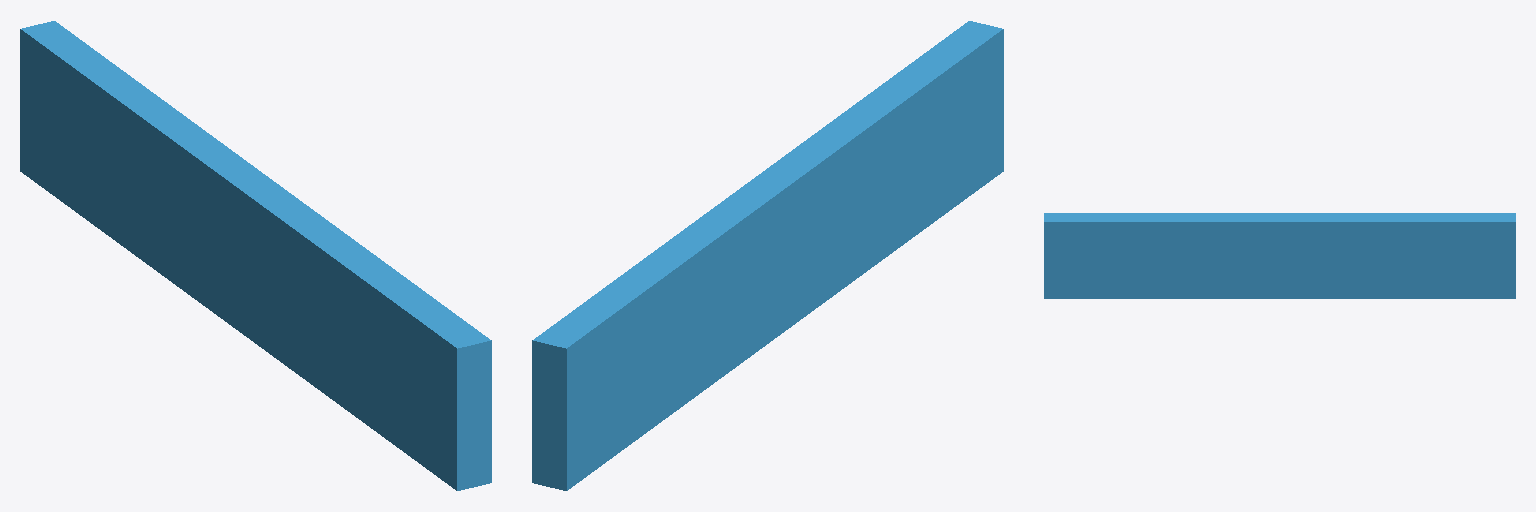
URDF robot description (box_73):
<?xml version="1.0" encoding="utf-8"?>    
    
    <robot name="box_73">
        <link name="box_73">    
            <fem>
                <origin rpy="0.0 0.0 0.0" xyz="0 0 0" />
                <density value="100" />
                <youngs value="9855"/>
                <poissons value="0.3"/>
                <damping value="0.0" /> 
                <attachDistance value="0.01"/>
                <tetmesh filename="../../../../Custom_mesh/physical_dvrk/multi_box_10kPa/box_73.tet"/>
                <scale value="1.0"/>
            </fem>
        </link>
        
        <link name="fix_frame">
            <visual>
                <origin xyz="-10.092 0.0 0.0"/>              
                <geometry>
                    <box size="0.005 0.111 0.020"/>
                </geometry>
            </visual>
            <collision>
                <origin xyz="-0.092 0.0 0.0"/>              
                <geometry>
                    <box size="0.005 0.111 0.020"/>
                </geometry>
            </collision>
            <inertial>
                <mass value="500000"/>
                <inertia ixx="0.05" ixy="0.0" ixz="0.0" iyy="0.05" iyz="0.0" izz="0.05"/>
            </inertial>
        </link>
        
        <joint name = "attach" type = "fixed">
            <origin xyz = "0.0 0.0 0.0" rpy = "0 0 0"/>
            <parent link = "box_73"/>
            <child link = "fix_frame"/>
        </joint>  
        
    </robot>
    

--- Render facts (derived) ---
The picture shows the robot from 3 angles, left to right: view 1: azimuth 30°, elevation 25°; view 2: azimuth 150°, elevation 25°; view 3: azimuth 270°, elevation 25°; orthographic projection.
Robot: box_73 — 2 links, 1 joints (1 fixed); root link box_73; default pose: all joints at 0.
Visible links, largest first — view 1: fix_frame; view 2: fix_frame; view 3: fix_frame.
Link boxes in pixels (left/top/right/bottom): fix_frame: left=20, top=21, right=491, bottom=490; fix_frame: left=532, top=21, right=1003, bottom=490; fix_frame: left=1044, top=213, right=1515, bottom=298.
Bounding box of the posed robot: 0.005 × 0.111 × 0.02 m (x, y, z).
Geometry: primitives only (box / cylinder / sphere), no mesh files.